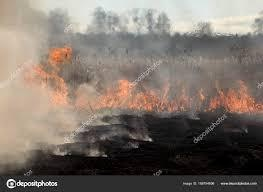fire: (84, 72, 257, 113), (28, 45, 79, 109)
